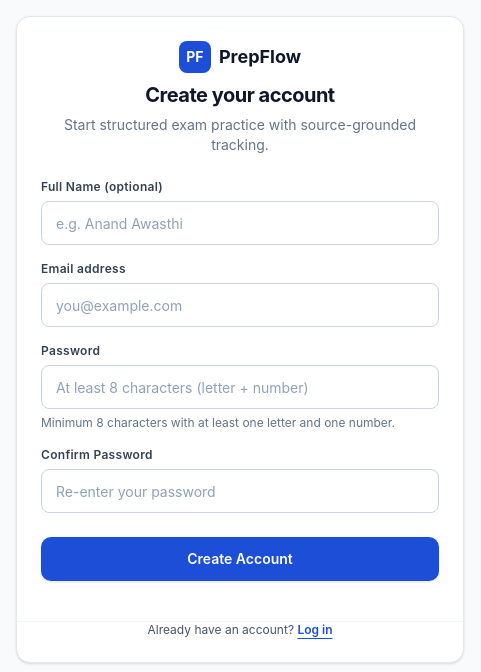
Scenario: SignupPage Component Accessibility & Interactions (PF-007) › renders inline field errors returned from server action
What coordinates should you click on to do the following:
click the button "Create Account"
I would click on:
 (240, 559)
Its box is left=41, top=537, right=439, bottom=581.
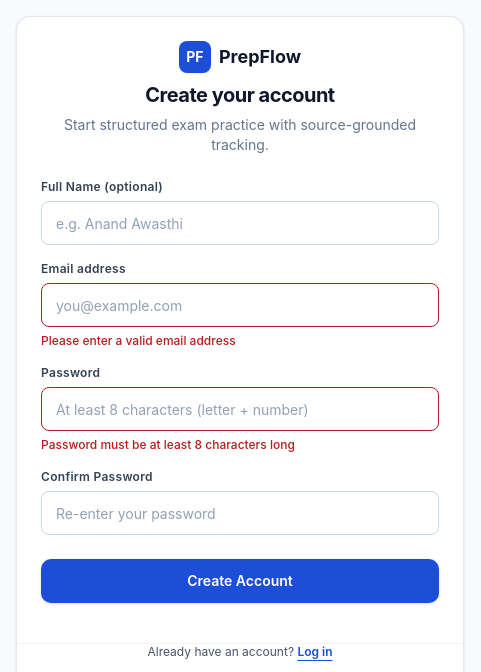
Now the text "Please enter a valid email address" is shown, box left=41, top=333, right=236, bottom=348
Now the text "Password must be at least 8 characters long" is shown, box left=41, top=437, right=295, bottom=452
